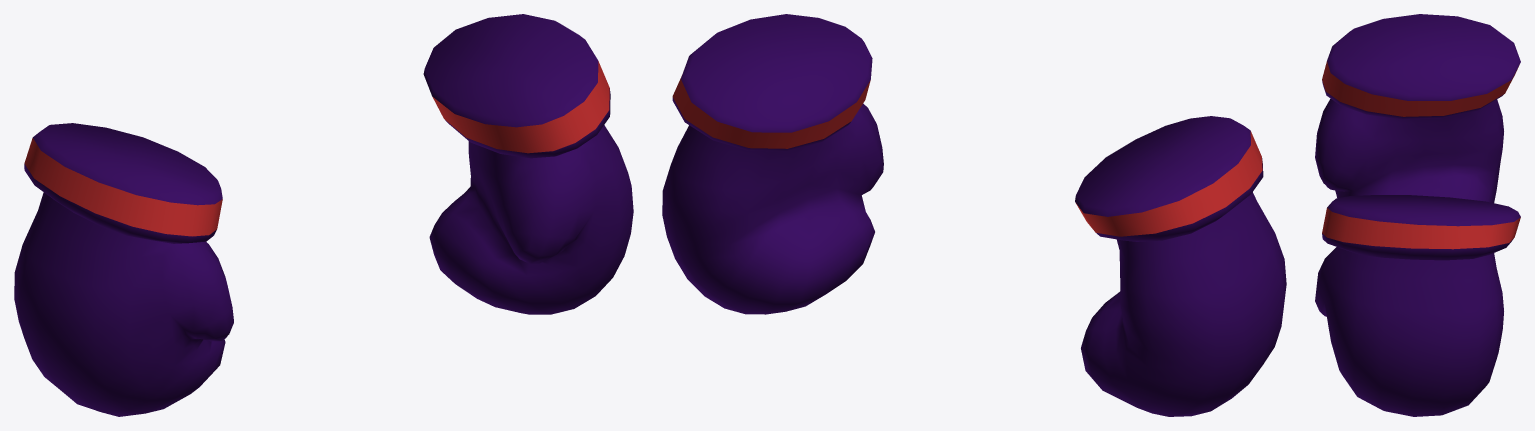
Rendered from gloves13.fbx.
The picture shows the model from 3 angles, left to right: view 1: azimuth 30°, elevation 25°; view 2: azimuth 150°, elevation 25°; view 3: azimuth 270°, elevation 25°; orthographic projection. The views are drawn at different scales.
Visible parts, largest first — view 1: 13, 13.001; view 2: 13.001, 13; view 3: 13.001, 13.
Part boxes in pixels (left/top/right/bottom): 13: left=14, top=123, right=233, bottom=416; 13.001: left=423, top=14, right=633, bottom=314; 13.001: left=662, top=14, right=883, bottom=314; 13: left=1075, top=116, right=1286, bottom=416; 13.001: left=1315, top=195, right=1520, bottom=416; 13: left=1315, top=14, right=1520, bottom=202.
Bounding box in the file's own units: 1.43 × 0.608 × 0.5401.
